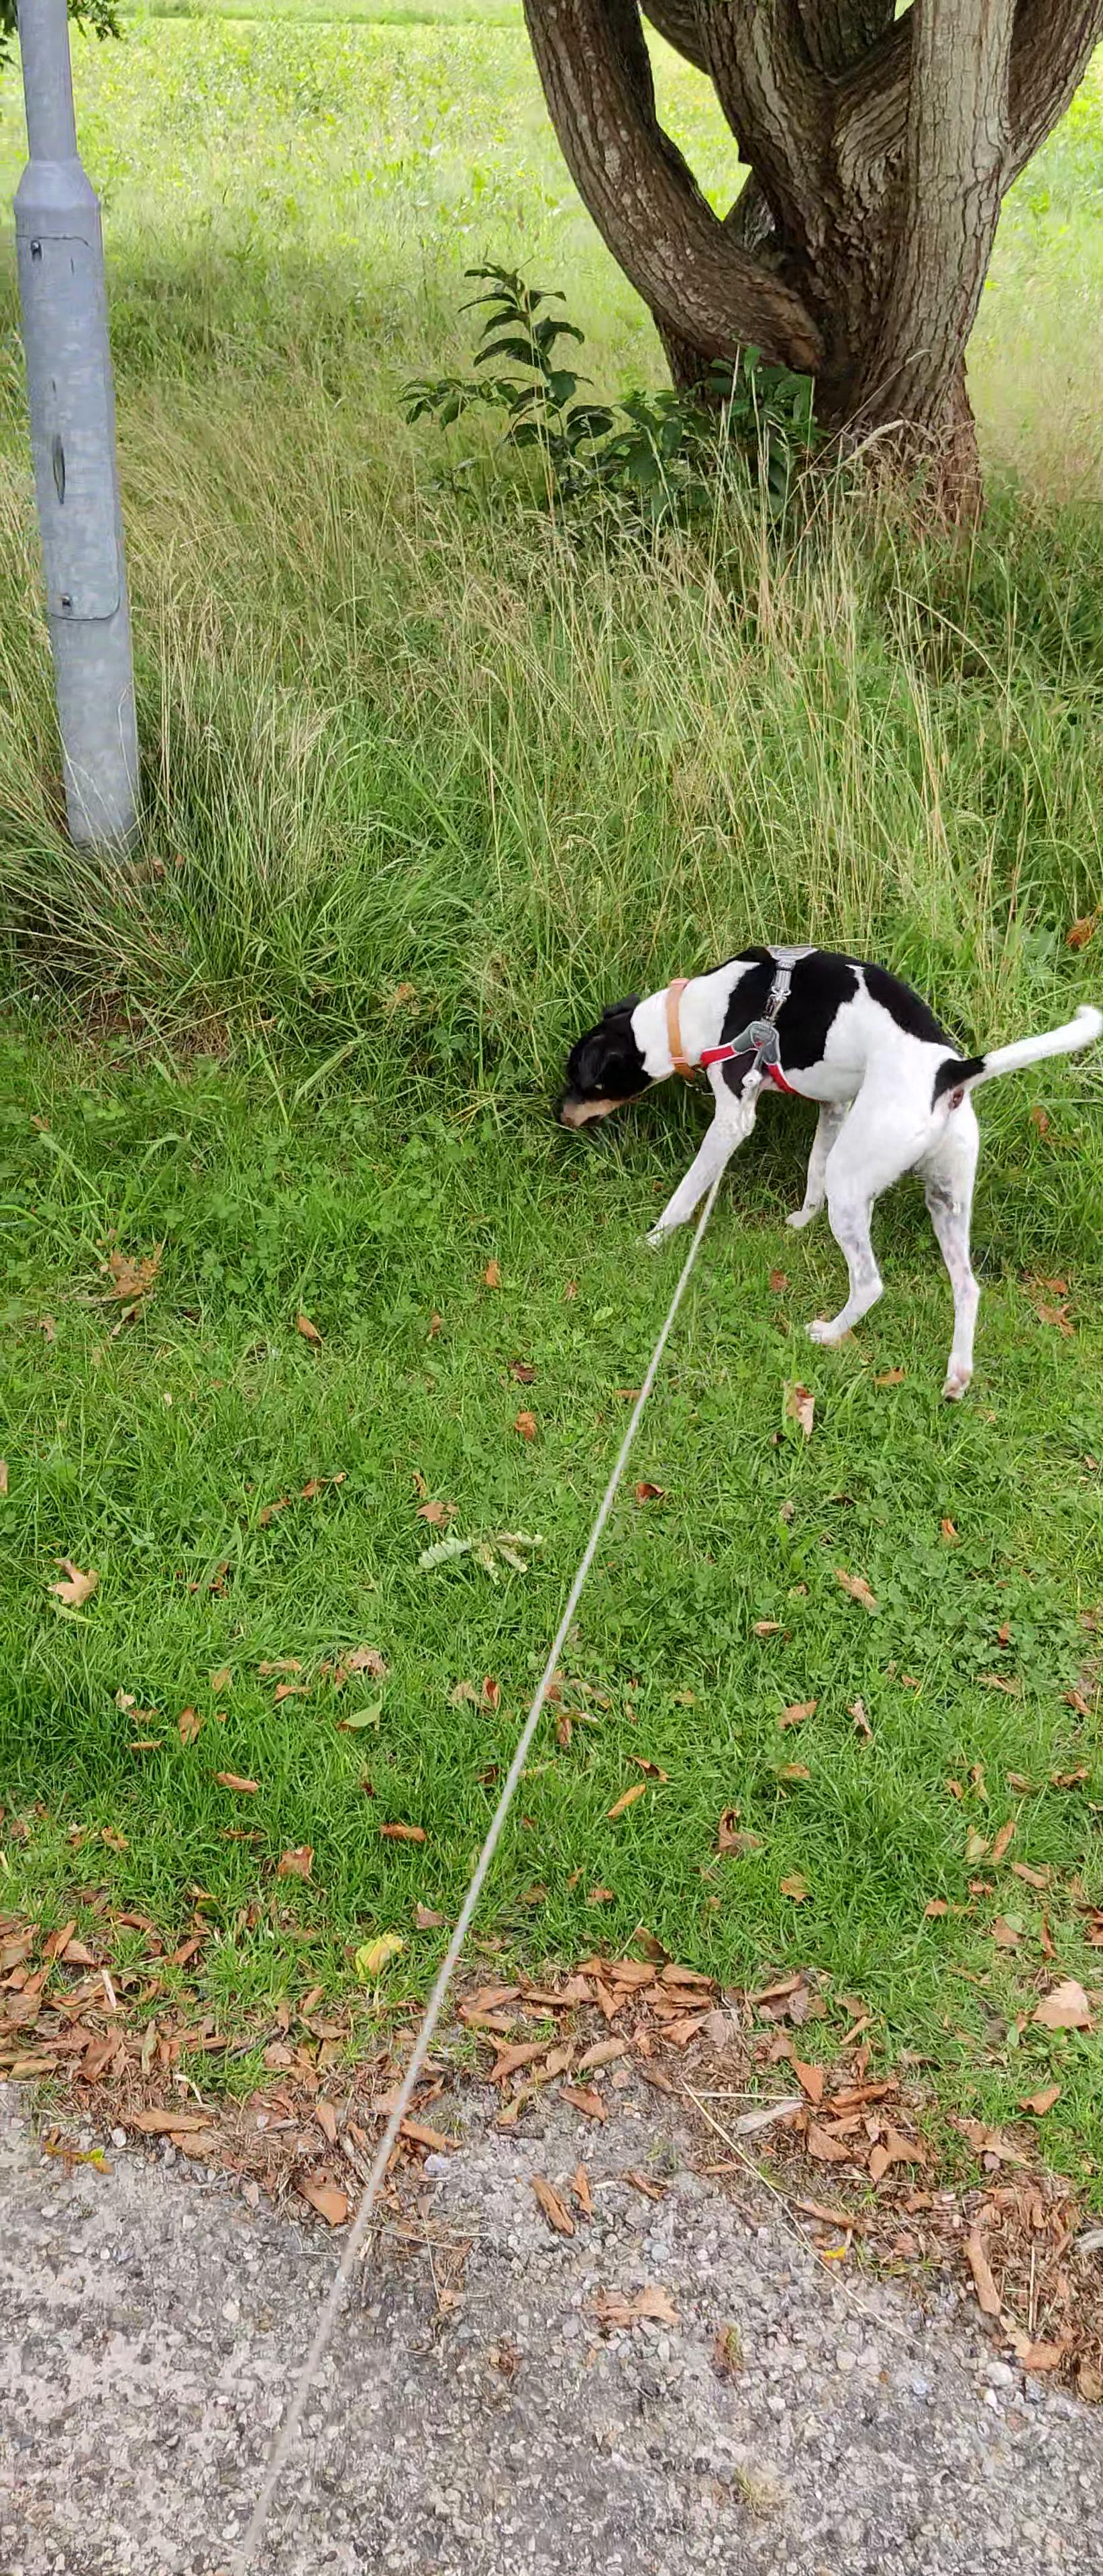Dog: (539, 933, 1103, 1410)
